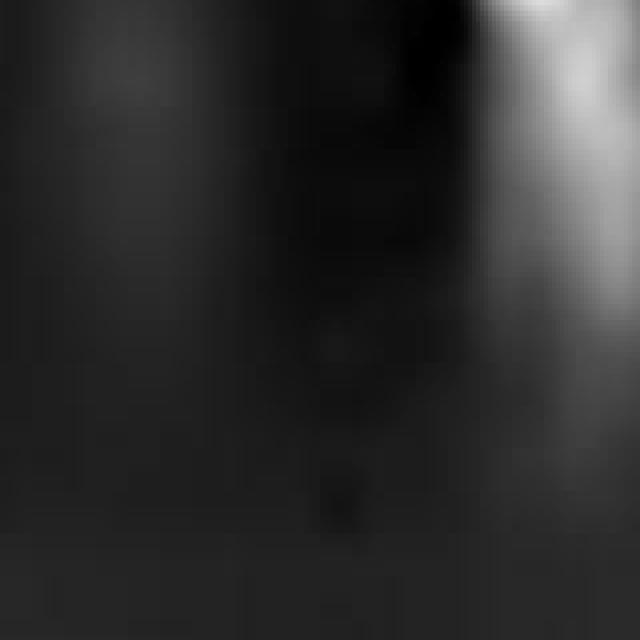person: (433, 1, 640, 486)
